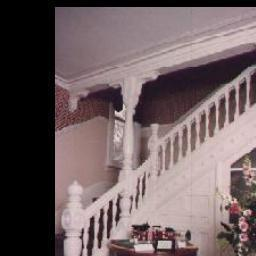Escaleras: (154, 60, 256, 183), (41, 167, 146, 256)
Matera: (221, 165, 256, 256)
